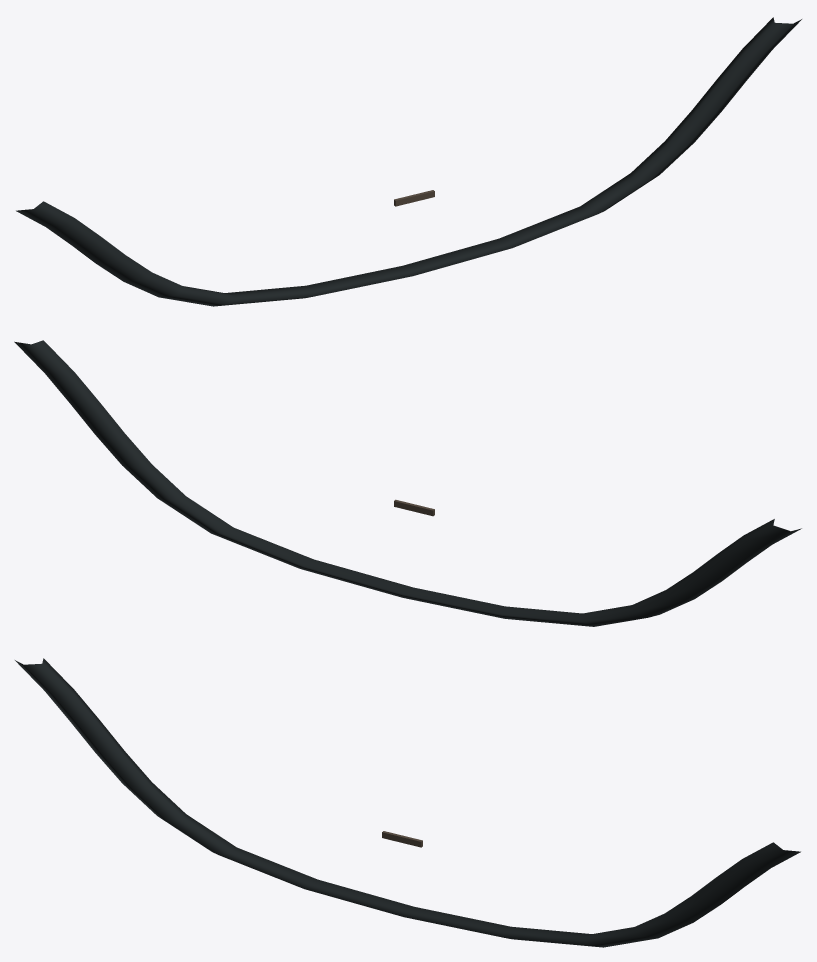
Rendered from sag-cable-2.glb.
3 views of the same model, one above another, from view 1: azimuth 30°, elevation 25°; view 2: azimuth 150°, elevation 25°; view 3: azimuth 330°, elevation 25° (orthographic).
Parts seen in each view (by area): view 1: sag-cable/1/KR-230-2; view 2: sag-cable/1/KR-230-2; view 3: sag-cable/1/KR-230-2.
Boxes of the visible parts, x1=… form: sag-cable/1/KR-230-2: x1=16, y1=17, x2=801, y2=306; sag-cable/1/KR-230-2: x1=14, y1=340, x2=801, y2=626; sag-cable/1/KR-230-2: x1=15, y1=658, x2=800, y2=947.
Bounding box in the file's own units: 5 × 1 × 0.142.
